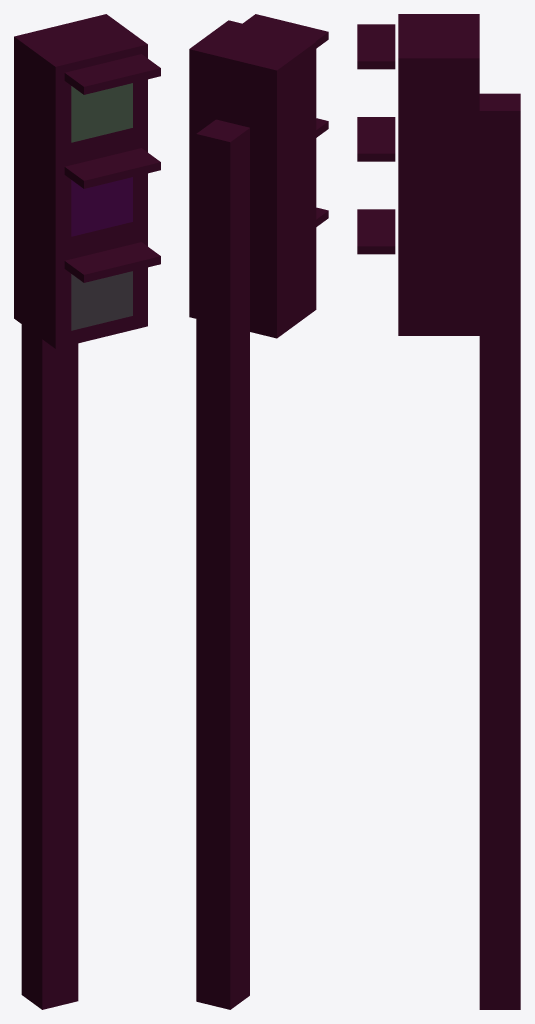
The model's file is signal.glb.
3 views of the same model, side by side, from view 1: azimuth 30°, elevation 25°; view 2: azimuth 150°, elevation 25°; view 3: azimuth 270°, elevation 25° (orthographic). The views are drawn at different scales.
Parts seen in each view (by area): view 1: signal; view 2: signal; view 3: signal.
Part boxes in pixels (box(x1,y1,x2,y2)): signal: box(14, 14, 160, 1009); signal: box(189, 14, 328, 1009); signal: box(357, 14, 520, 1009).
Bounding box in the file's own units: 0.36 × 3.65 × 0.5601.
